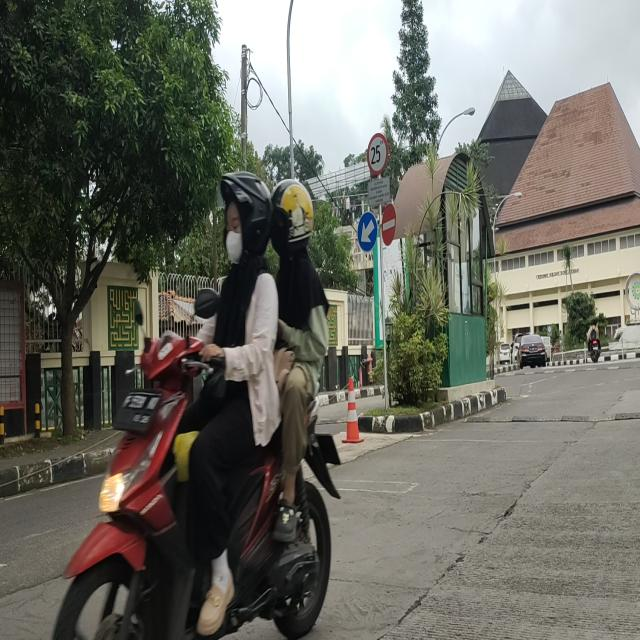helmet: (221, 177, 271, 264), (273, 183, 314, 268)
